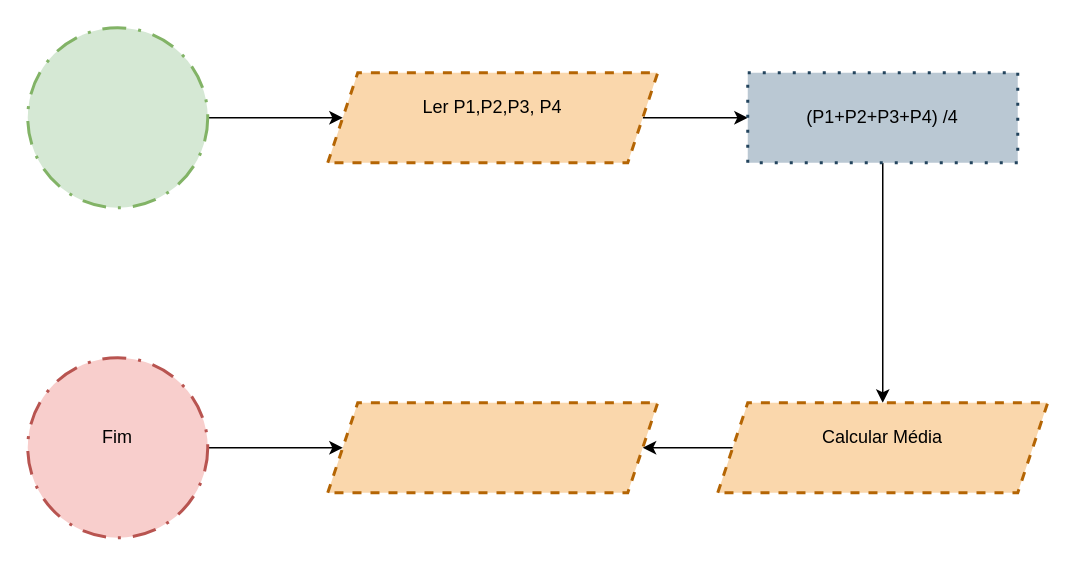
Image size: 1074x564. Some labels were removed from this diagram. Here are the shapes that lost their labels. From the top down, the centre of each, then its label:
pixel 117 117: Inicio
pixel 492 447: Escrever Média
